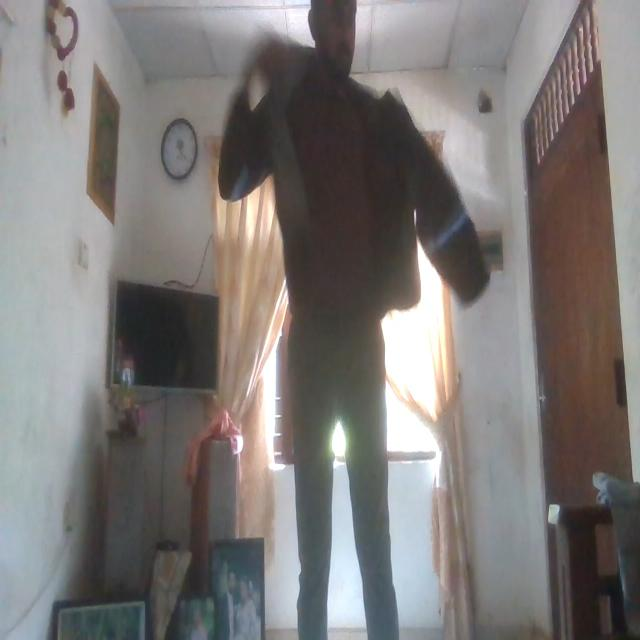Jacket_Wearer: (226, 35, 470, 320)
Person: (251, 0, 445, 640)
